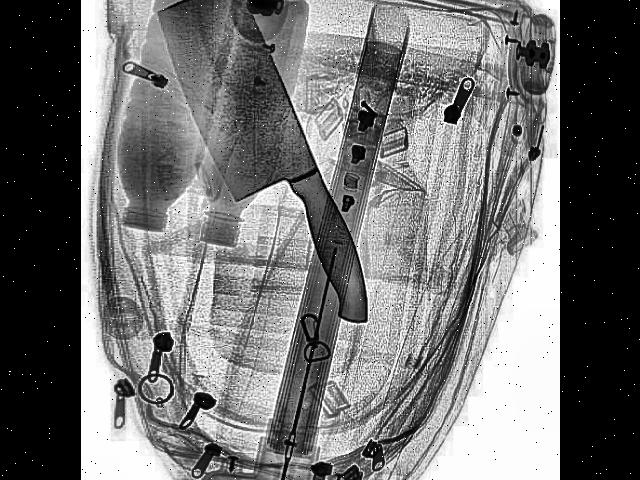Knife: (147, 0, 378, 378)
